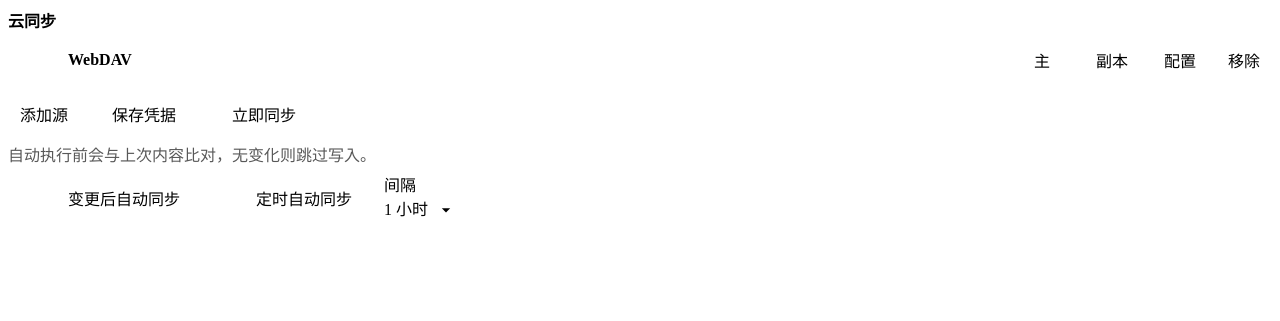
Test case: CloudCard（多源） › ⑥adopted：行内确认出现且确认前不落基线，确认后 persistDownloaded(finalVaultJson)+补写基线
Click the button with class "cloud-sync".
click(264, 114)  # box [208, 94, 320, 134]
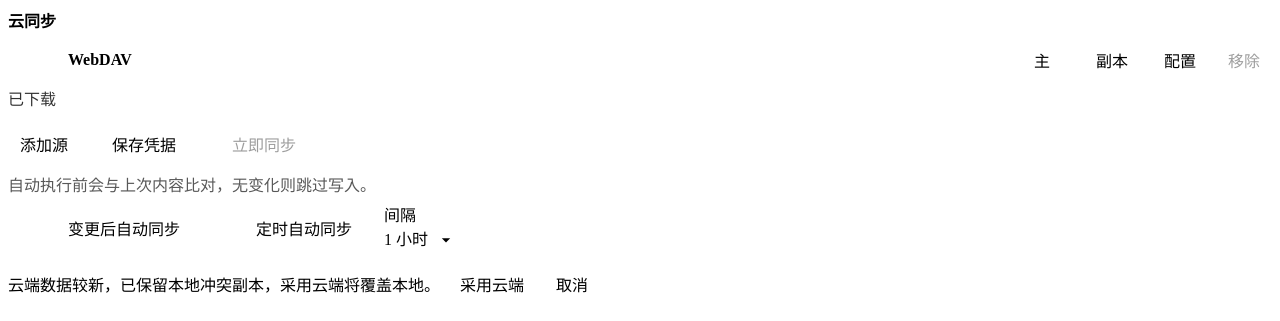
Now the element with class "confirm-row" is shown, box [8, 264, 600, 304]
Now the text "采用云端将覆盖本地" is shown, box [8, 277, 440, 294]
Now the button with class "cloud-sync" is disabled, box [208, 124, 320, 164]
Click the button "采用云端".
click(492, 284)  # box [448, 264, 536, 304]
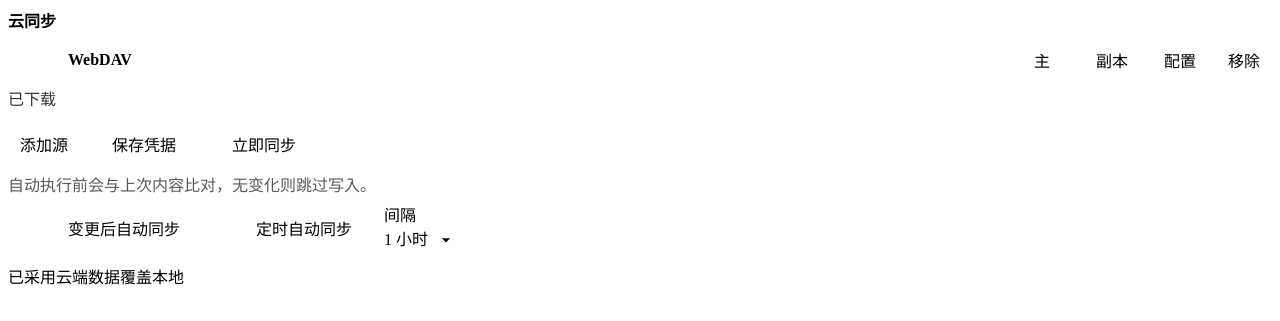
Now the text "已采用云端数据覆盖本地" is shown, box [8, 269, 184, 286]
Now the button with class "cloud-sync" is enabled, box [208, 124, 320, 164]
